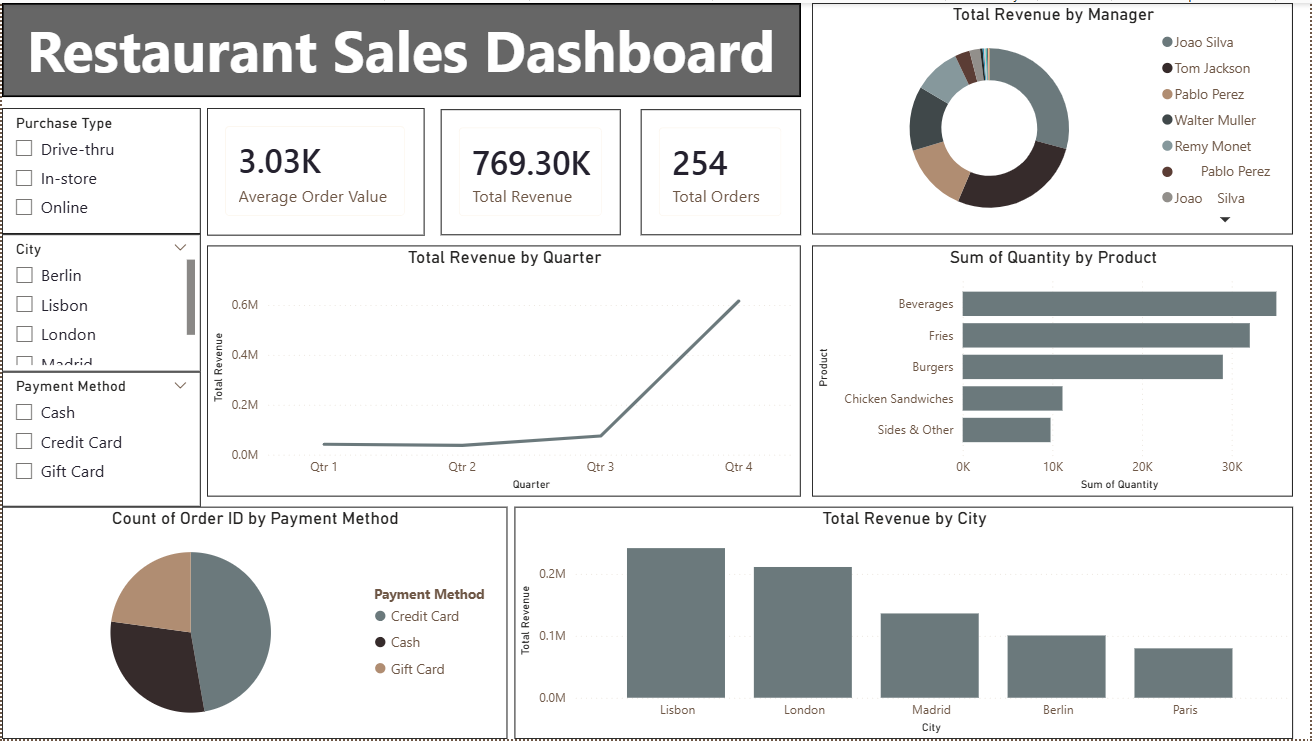

The dashboard page shown, as its layout file describes it:
{"tool":"powerbi","page":{"name":"Page 1","canvas":[1280,720],"ordinal":0},"visuals":[{"type":"cardVisual","fields":{"Data":["restaurant_orders.Total Orders"]},"box":[624.9,103.9,156.5,123.5],"z":0},{"type":"cardVisual","fields":{"Data":["restaurant_orders.Total Revenue"]},"box":[429.2,103.9,176.1,123.5],"z":1000},{"type":"cardVisual","fields":{"Data":["restaurant_orders.Average Order Value"]},"box":[200.5,102.7,212.8,124.7],"z":2000},{"type":"clusteredBarChart","fields":{"Category":["restaurant_orders.Product"],"Y":["Sum(restaurant_orders.Quantity)"]},"box":[792.4,237.2,470.8,245.8],"z":3000},{"type":"clusteredColumnChart","fields":{"Y":["restaurant_orders.Total Revenue"],"Category":["restaurant_orders.City"]},"box":[501.4,492.8,761.8,227.4],"z":4000},{"type":"pieChart","fields":{"Category":["restaurant_orders.Payment Method"],"Y":["CountNonNull(restaurant_orders.Order ID)"]},"box":[0,492.8,494,227.4],"z":5000},{"type":"lineChart","fields":{"Category":["restaurant_orders.Date.Variation.Date Hierarchy.Quarter"],"Y":["restaurant_orders.Total Revenue"]},"box":[200.5,237.2,580.8,245.8],"z":6000},{"type":"donutChart","fields":{"Category":["restaurant_orders.Manager"],"Y":["restaurant_orders.Total Revenue"]},"box":[792.4,0,470.8,226.2],"z":7000},{"type":"slicer","fields":{"Values":["restaurant_orders.City"]},"box":[0,226.2,194.4,134.5],"z":8000},{"type":"slicer","fields":{"Values":["restaurant_orders.Purchase Type"]},"box":[0,102.7,194.4,123.5],"z":9000},{"type":"slicer","fields":{"Values":["restaurant_orders.Payment Method"]},"box":[0,360.7,194.4,132.1],"z":10000},{"type":"textbox","box":[0,0,781.4,91.7],"z":11000}]}

Visuals, with their boxes in screenshot pixels (x1, y1, x2, y2), scaled from the page's 1280x720 canvas onto the 1312x741 screenshot:
cardVisual - restaurant_orders.Total Orders: box=[641, 107, 801, 234]
cardVisual - restaurant_orders.Total Revenue: box=[440, 107, 620, 234]
cardVisual - restaurant_orders.Average Order Value: box=[206, 106, 424, 234]
clusteredBarChart - restaurant_orders.Product x Sum(restaurant_orders.Quantity): box=[812, 244, 1295, 497]
clusteredColumnChart - restaurant_orders.Total Revenue x restaurant_orders.City: box=[514, 507, 1295, 740]
pieChart - restaurant_orders.Payment Method x CountNonNull(restaurant_orders.Order ID): box=[0, 507, 506, 740]
lineChart - restaurant_orders.Date.Variation.Date Hierarchy.Quarter x restaurant_orders.Total Revenue: box=[206, 244, 801, 497]
donutChart - restaurant_orders.Manager x restaurant_orders.Total Revenue: box=[812, 0, 1295, 233]
slicer - restaurant_orders.City: box=[0, 233, 199, 371]
slicer - restaurant_orders.Purchase Type: box=[0, 106, 199, 233]
slicer - restaurant_orders.Payment Method: box=[0, 371, 199, 507]
textbox: box=[0, 0, 801, 94]
